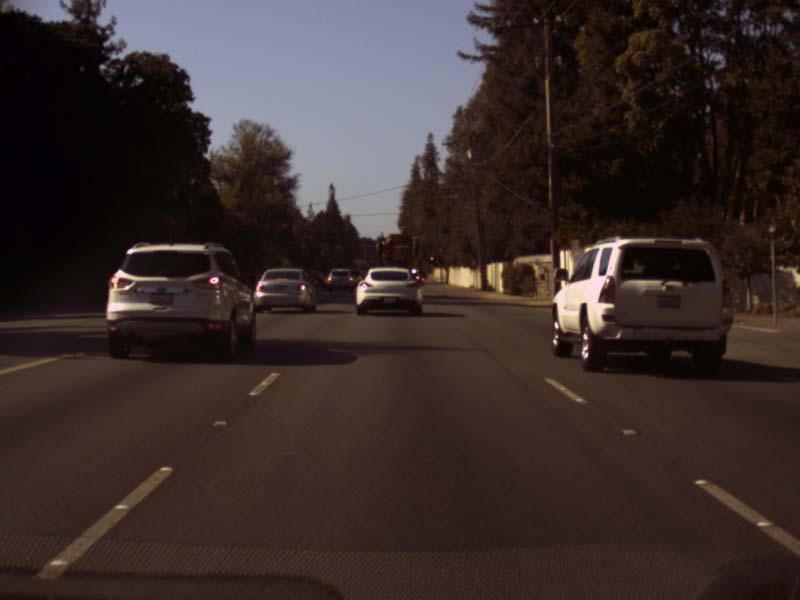Yellow: (429, 254, 435, 261)
